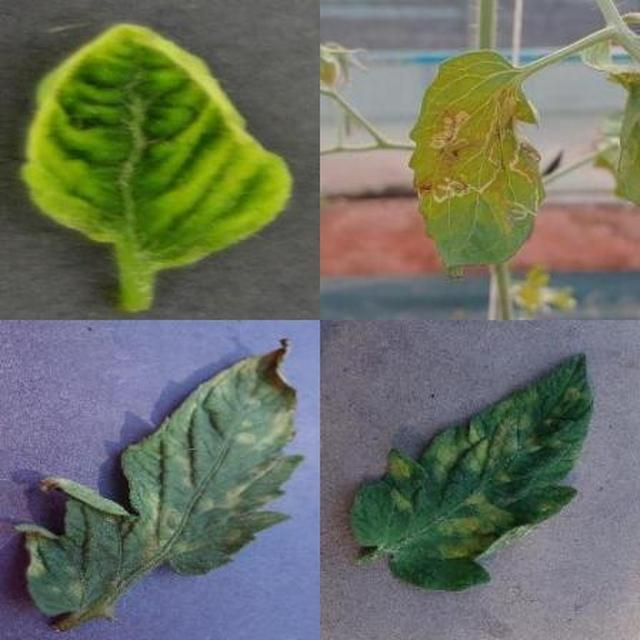Yellow Leaf Curl Virus: (200, 211, 640, 640)
